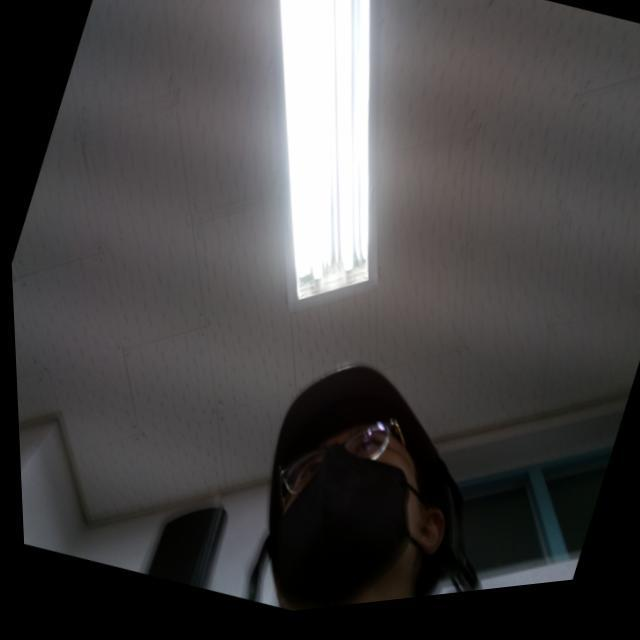Helmet: (259, 360, 480, 604)
